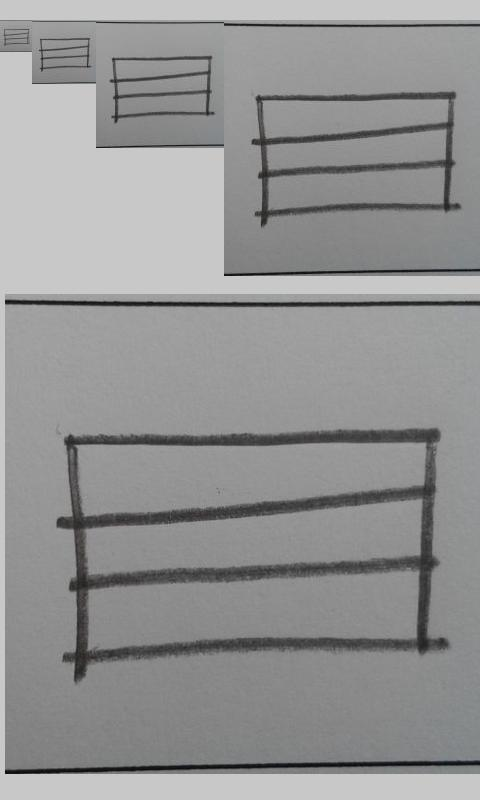list_view: (63, 429, 436, 668), (256, 92, 455, 218), (111, 56, 212, 120), (40, 38, 90, 70), (3, 28, 30, 46)
